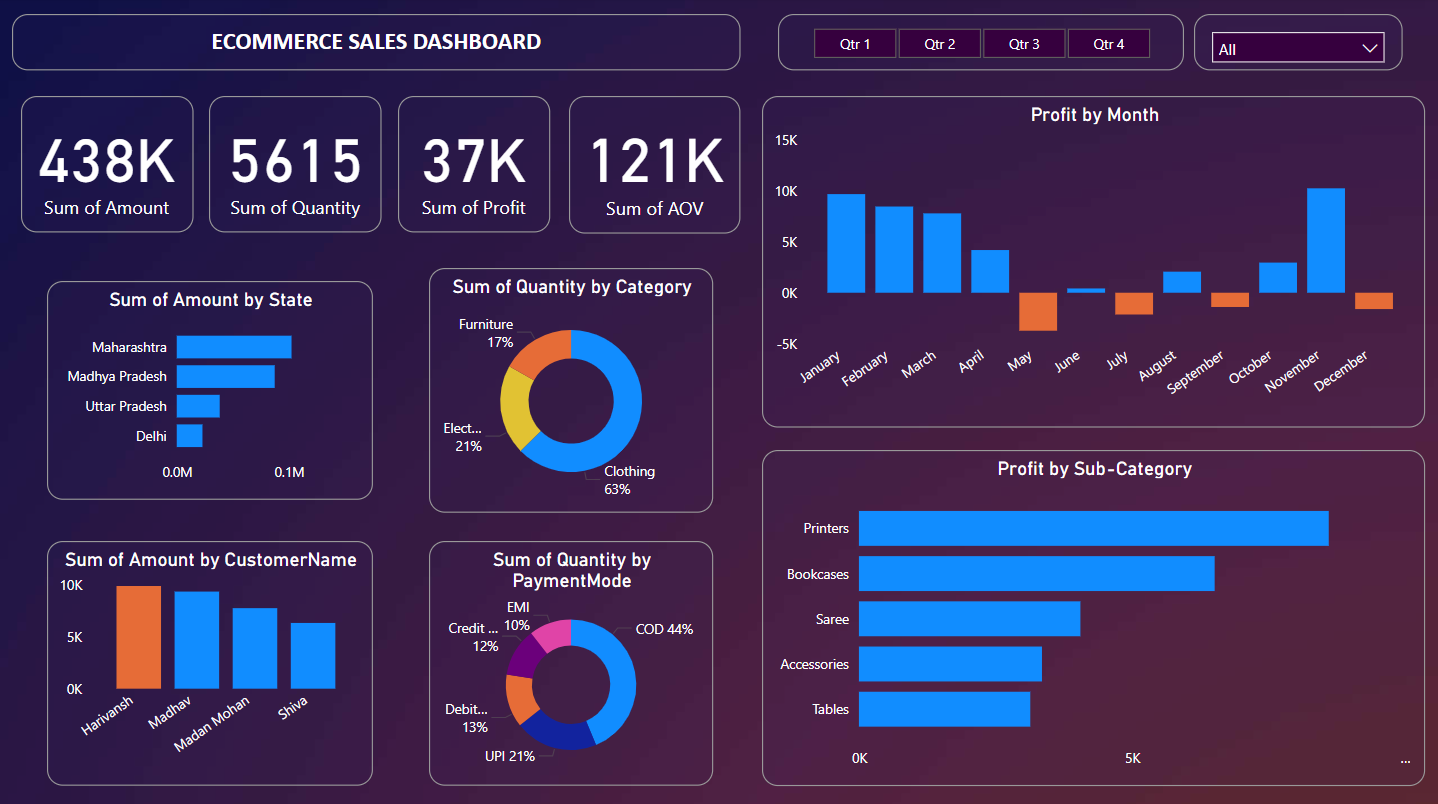

The dashboard page shown, as its layout file describes it:
{"tool":"powerbi","page":{"name":"Page 1","canvas":[1280,720],"ordinal":0},"visuals":[{"type":"textbox","box":[11.7,14.6,645.8,49.6],"z":0},{"type":"columnChart","title":"Profit by Month","fields":{"Category":["Orders.Order Date.Variation.Date Hierarchy.Month"],"Y":["Details.Profit"]},"box":[677,86.6,588.4,293.7],"z":1000},{"type":"barChart","title":"Profit by Sub-Category","fields":{"Category":["Details.Sub-Category"],"Y":["Details.Profit"]},"box":[677,400.7,588.4,297.6],"z":2000},{"type":"donutChart","fields":{"Category":["Details.Category"],"Y":["Details.Quantity"]},"box":[381.3,239.3,251.9,216.9],"z":3000},{"type":"donutChart","fields":{"Category":["Details.PaymentMode","Details.Category"],"Y":["Details.Quantity"]},"box":[381.3,481.5,251.9,216.9],"z":4000},{"type":"card","fields":{"Values":["Details.Amount"]},"box":[19.5,86.9,152.5,121.5],"z":5000},{"type":"card","fields":{"Values":["Details.Quantity"]},"box":[186.2,86.9,153.4,121.5],"z":6000},{"type":"card","fields":{"Values":["Details.Profit"]},"box":[353.8,86.9,134.8,121.5],"z":7000},{"type":"card","fields":{"Values":["Details.AOV"]},"box":[505.8,86.6,151.7,121.6],"z":8000},{"type":"barChart","title":"Sum of Amount by State","fields":{"Category":["Orders.State"],"Y":["Details.Amount"]},"box":[42.8,250.9,288.9,193.6],"z":9000},{"type":"columnChart","fields":{"Category":["Orders.CustomerName"],"Y":["Details.Amount"]},"box":[42.8,481.5,288.9,216.9],"z":10000},{"type":"slicer","fields":{"Values":["Orders.Order Date.Variation.Date Hierarchy.Quarter"]},"box":[690.6,14.6,359.9,49.6],"z":11000},{"type":"slicer","fields":{"Values":["Orders.State"]},"box":[1059.2,14.6,184.8,49.6],"z":12000}]}

Visuals, with their boxes in screenshot pixels (x1, y1, x2, y2), scaled from the page's 1280x720 canvas onto the 1438x804 screenshot:
textbox: 13, 16, 739, 72
"Profit by Month" columnChart: 761, 97, 1422, 425
"Profit by Sub-Category" barChart: 761, 447, 1422, 780
donutChart - Details.Category x Details.Quantity: 428, 267, 711, 509
donutChart - Details.PaymentMode x Details.Category: 428, 538, 711, 780
card - Details.Amount: 22, 97, 193, 233
card - Details.Quantity: 209, 97, 382, 233
card - Details.Profit: 397, 97, 549, 233
card - Details.AOV: 568, 97, 739, 232
"Sum of Amount by State" barChart: 48, 280, 373, 496
columnChart - Orders.CustomerName x Details.Amount: 48, 538, 373, 780
slicer - Orders.Order Date.Variation.Date Hierarchy.Quarter: 776, 16, 1180, 72
slicer - Orders.State: 1190, 16, 1398, 72
